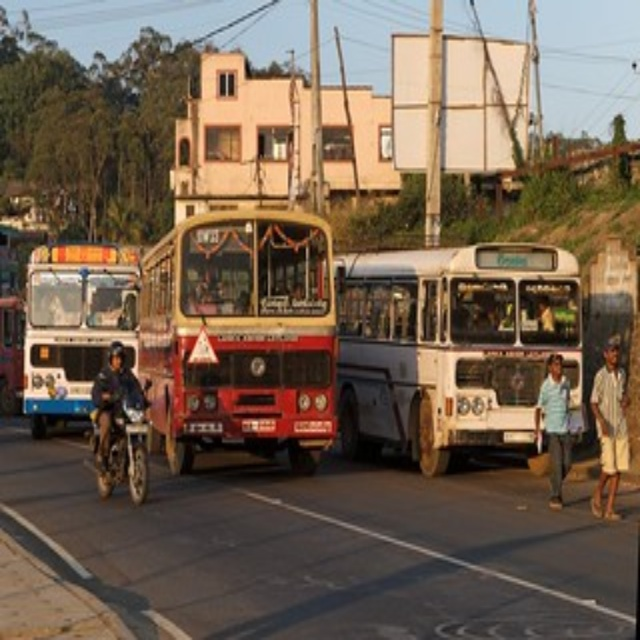Bus: (336, 243, 586, 477), (140, 205, 340, 472), (24, 245, 148, 435)
Motorcycle: (88, 389, 152, 504)
